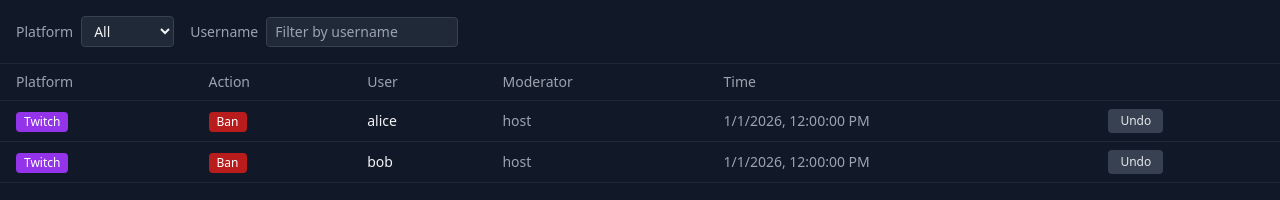
Test: ModLog › filters rows by username input
The image size is (1280, 200).
Expected: the text "alice" is shown, [351, 100, 486, 142]
Type "ali" into the field with placeholder "Filter by username" at (362, 32), box [266, 16, 458, 46]
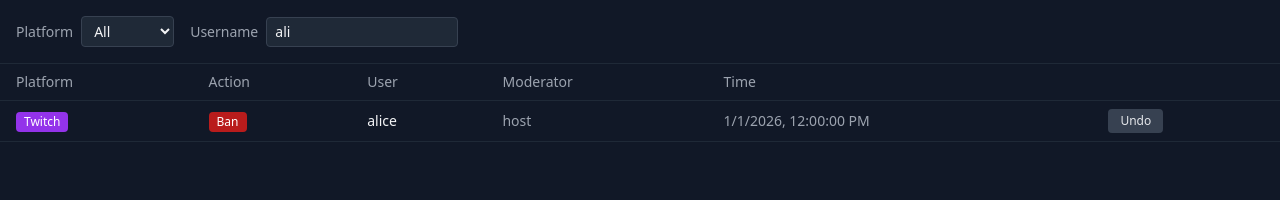
Expected: the text "alice" is shown, [351, 100, 486, 142]
Result: the text "bob" is gone
